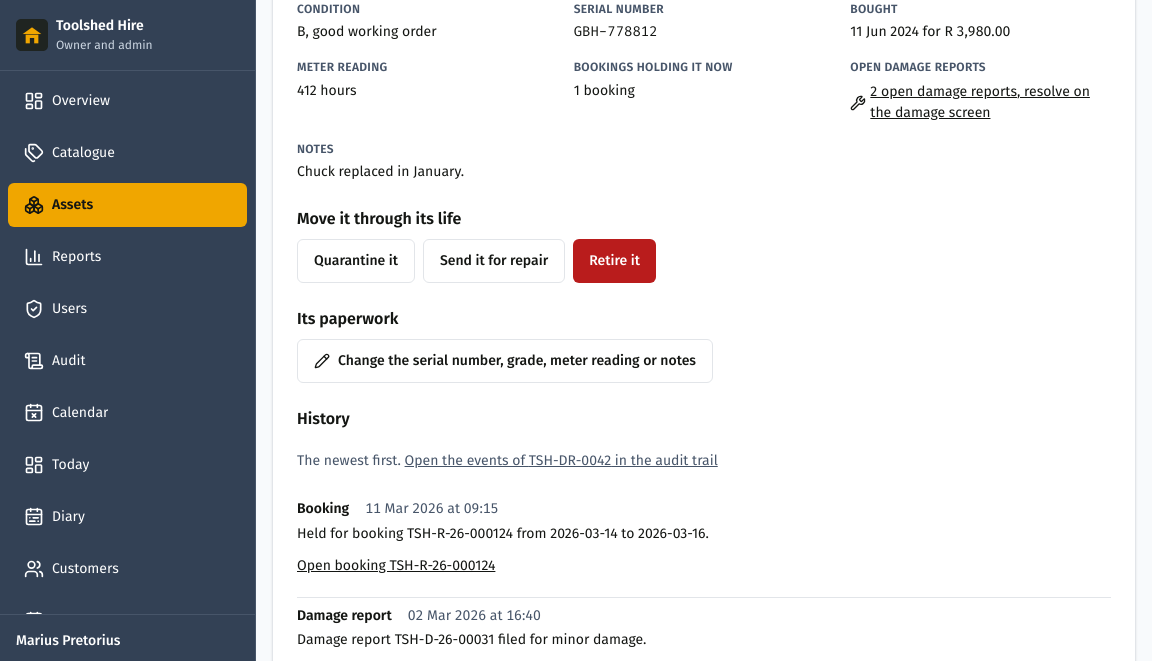
Test case: changing the paperwork › asks for a whole number of hours before anything is sent
(page scrolled)
Click the button "Change the serial number, grade, meter reading or notes". click: (505, 361)
box: [297, 339, 713, 383]
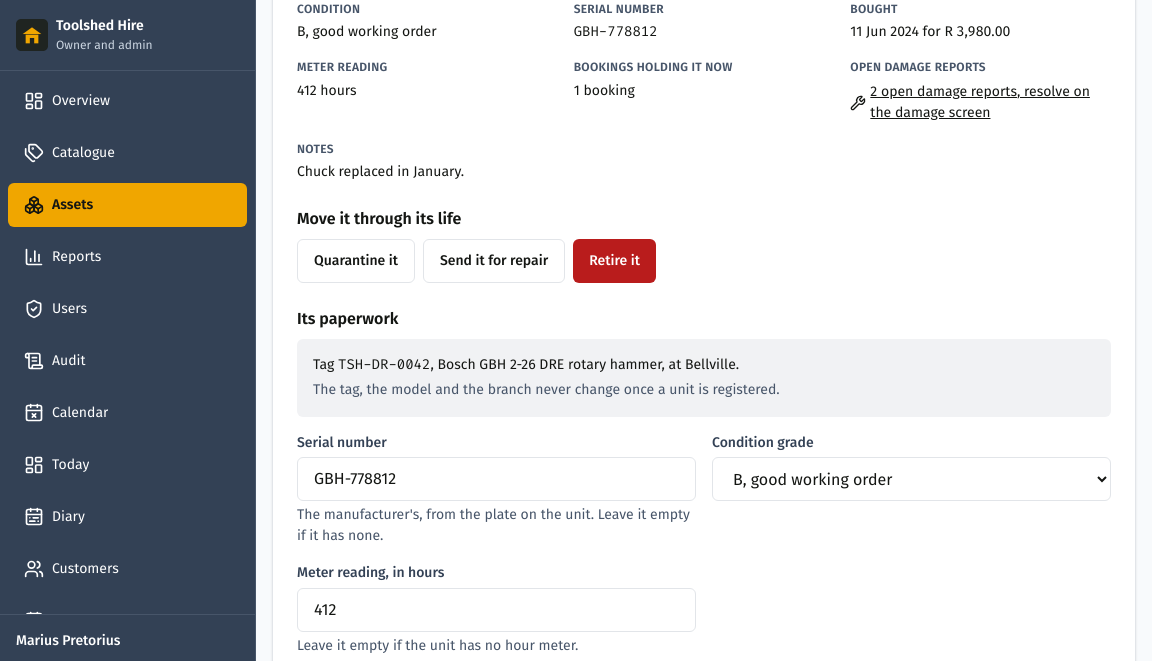
Replace the text in the field labelled "Meter reading, in hours" with "about 400". click: (496, 610)
box: [297, 588, 696, 632]
(page scrolled)
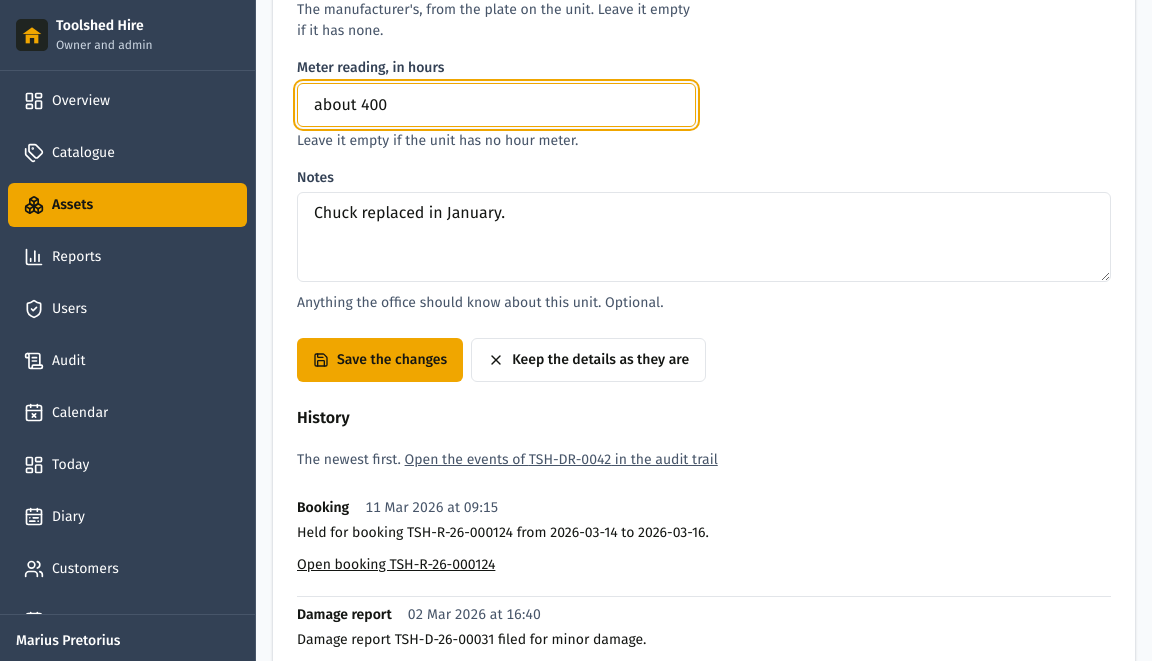
Click the button "Save the changes". click: (380, 360)
box: [297, 338, 463, 382]
(page scrolled)
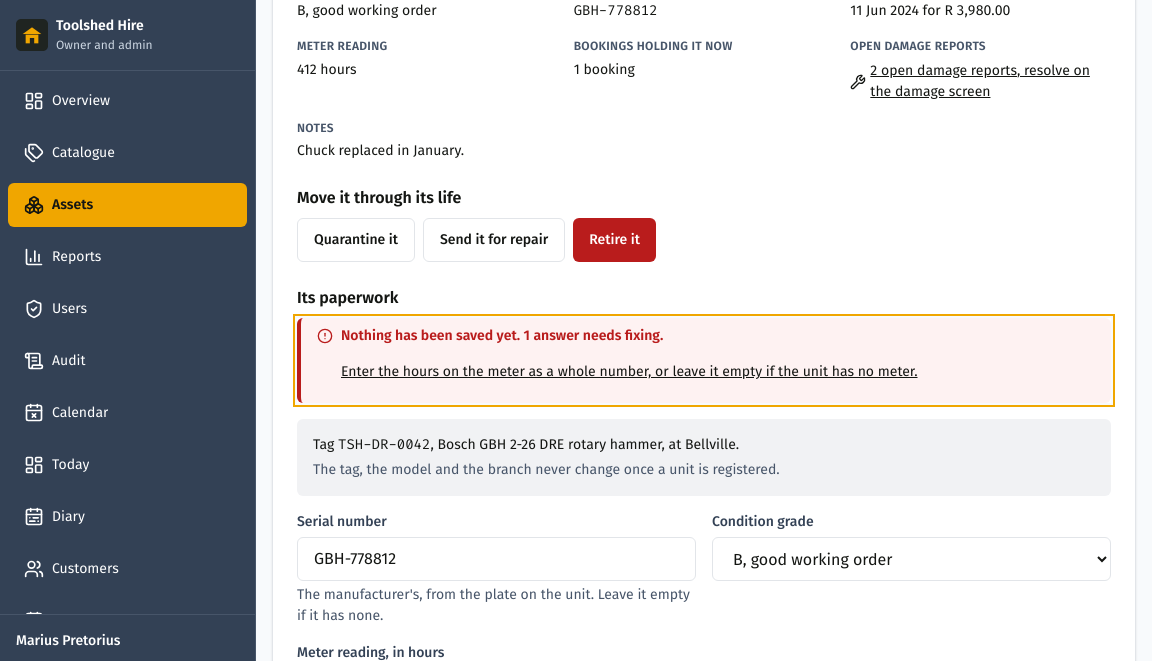
Check: the message shows "Nothing has been saved yet. 1 answer needs fixing.", box [341, 327, 663, 344]
